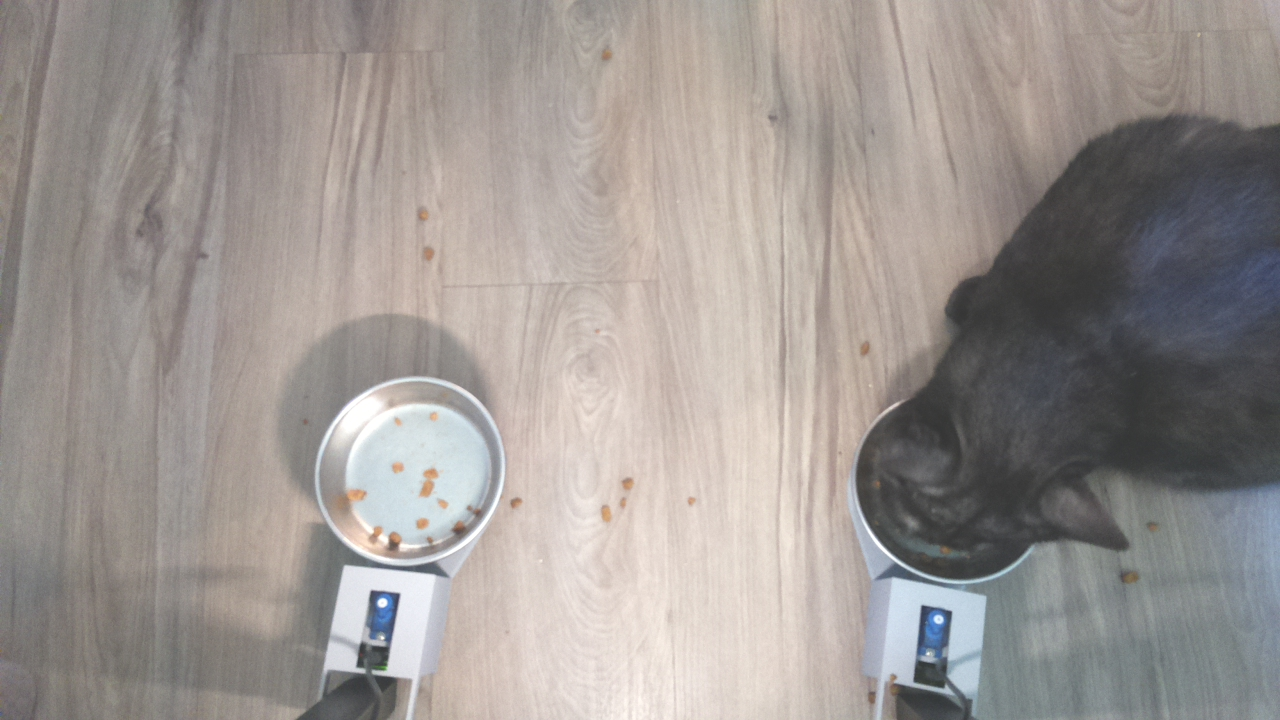open_bowl: (309, 373, 509, 571)
saki_eating: (848, 354, 1126, 594)
